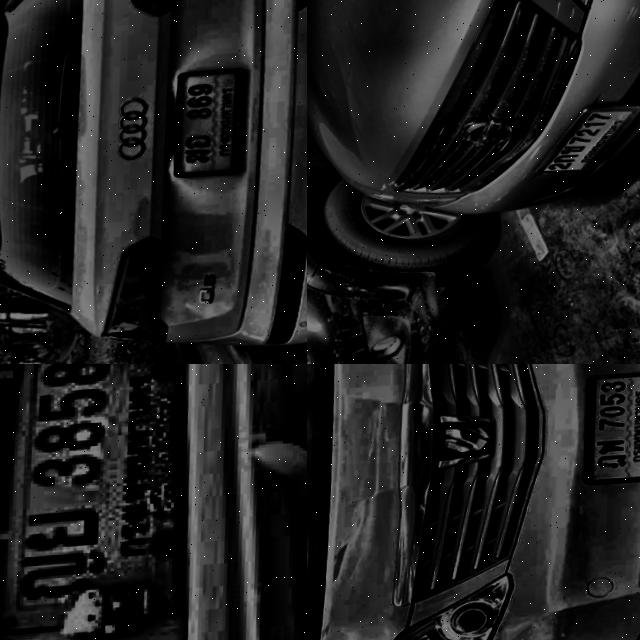license-plate: (0, 364, 199, 640), (169, 68, 257, 182), (536, 102, 640, 180), (581, 373, 640, 490)
